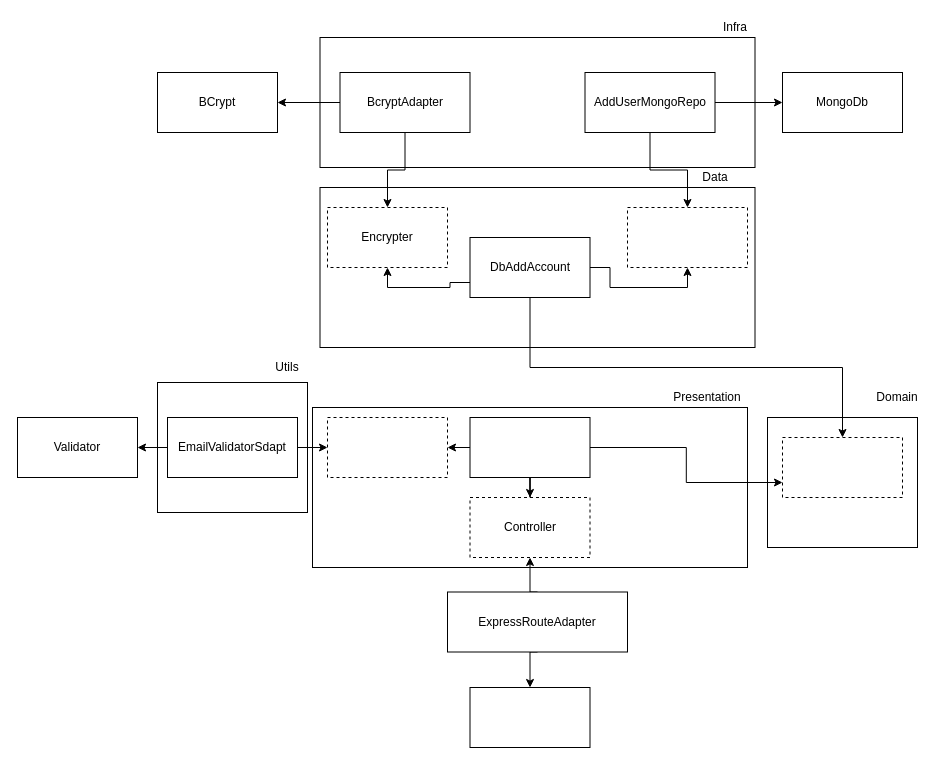
Some shapes in this 935 by 765 pixel diagram are drawn without their labels. Here are the shapes that lost their labels. From the top down, the box of each, then its label:
(626, 206, 748, 268): AddUserRepo
(326, 416, 448, 478): EmailValidator
(469, 416, 590, 478): SignUpController
(782, 436, 902, 498): AddAccount
(469, 686, 590, 748): Express
